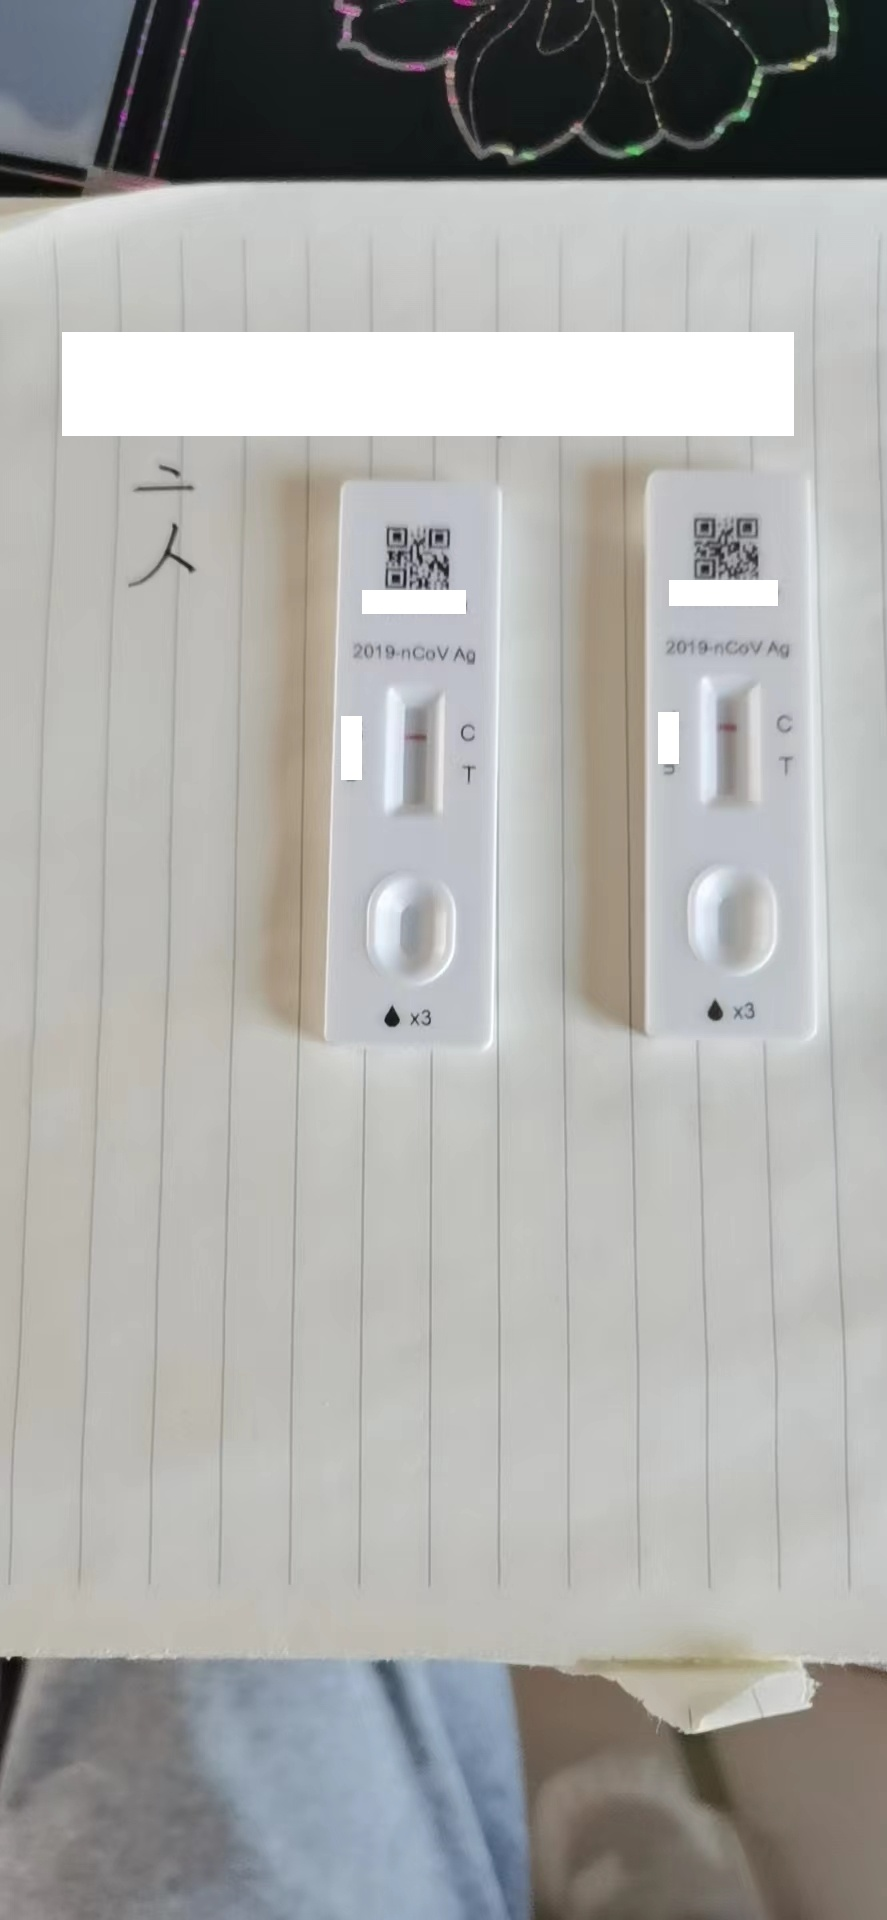negative: (697, 673, 758, 816), (383, 684, 443, 820)
